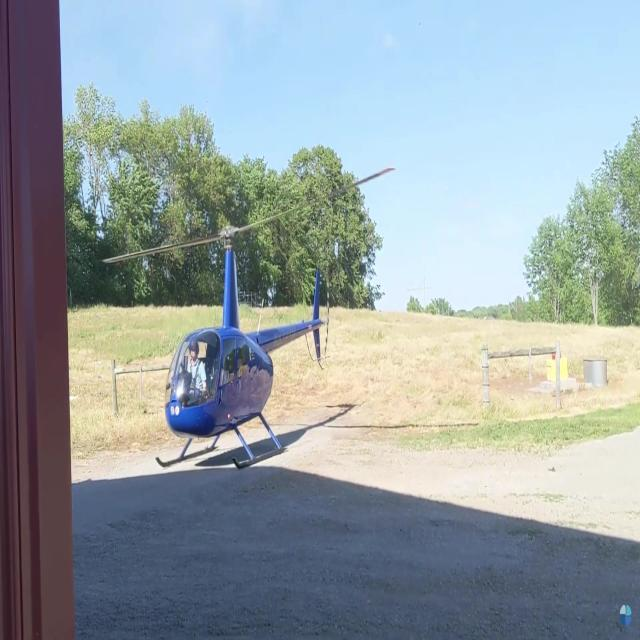CIV_HELO: (154, 222, 323, 472)
